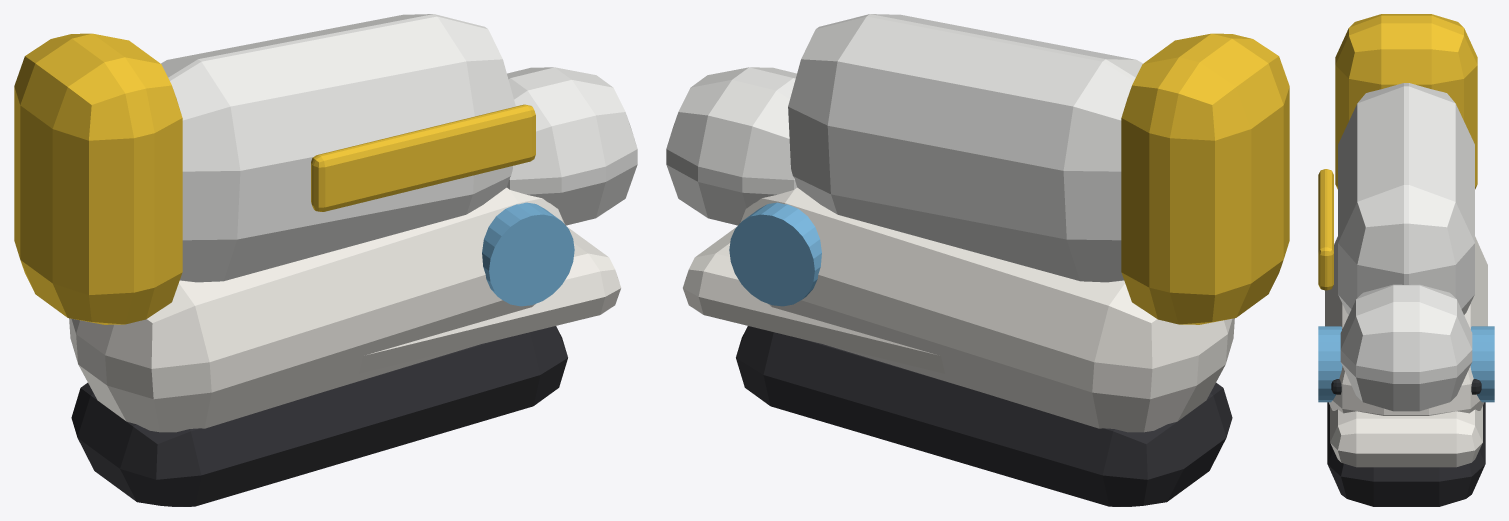
The model's file is nike-alphafly-3-study.glb.
3 views of the same model, side by side, from view 1: azimuth 30°, elevation 25°; view 2: azimuth 150°, elevation 25°; view 3: azimuth 270°, elevation 25° (orthographic). The views are drawn at different scales.
Visible parts, largest first — view 1: nike-alphafly-3-study_UPPER, nike-alphafly-3-study_MIDSOLE, nike-alphafly-3-study_HEEL, nike-alphafly-3-study_OUTSOLE, nike-alphafly-3-study_TOE, nike-alphafly-3-study_MUSEUM_ID_PANEL, nike-alphafly-3-study_CONTINUOUS_BOTTOM, nike-alphafly-3-study; view 2: nike-alphafly-3-study_UPPER, nike-alphafly-3-study_MIDSOLE, nike-alphafly-3-study_HEEL, nike-alphafly-3-study_OUTSOLE, nike-alphafly-3-study_TOE, nike-alphafly-3-study_CONTINUOUS_BOTTOM, nike-alphafly-3-study; view 3: nike-alphafly-3-study_UPPER, nike-alphafly-3-study_TOE, nike-alphafly-3-study_HEEL, nike-alphafly-3-study_CONTINUOUS_BOTTOM, nike-alphafly-3-study_OUTSOLE, nike-alphafly-3-study_MIDSOLE, nike-alphafly-3-study, nike-alphafly-3-study_MUSEUM_ID_PANEL, nike-alphafly-3-study_CARBON_PLATE.
Part boxes in pixels (<box>): nike-alphafly-3-study_UPPER: <box>161,14,515,282</box>; nike-alphafly-3-study_MIDSOLE: <box>69,187,565,432</box>; nike-alphafly-3-study_HEEL: <box>14,33,182,324</box>; nike-alphafly-3-study_OUTSOLE: <box>71,326,567,506</box>; nike-alphafly-3-study_TOE: <box>506,67,637,225</box>; nike-alphafly-3-study_MUSEUM_ID_PANEL: <box>311,104,535,211</box>; nike-alphafly-3-study_CONTINUOUS_BOTTOM: <box>359,227,620,373</box>; nike-alphafly-3-study: <box>482,202,574,306</box>; nike-alphafly-3-study_UPPER: <box>788,14,1142,282</box>; nike-alphafly-3-study_MIDSOLE: <box>738,187,1234,432</box>; nike-alphafly-3-study_HEEL: <box>1121,33,1289,324</box>; nike-alphafly-3-study_OUTSOLE: <box>736,326,1232,506</box>; nike-alphafly-3-study_TOE: <box>666,67,797,225</box>; nike-alphafly-3-study_CONTINUOUS_BOTTOM: <box>683,227,944,373</box>; nike-alphafly-3-study: <box>729,202,821,306</box>; nike-alphafly-3-study_UPPER: <box>1338,83,1474,314</box>; nike-alphafly-3-study_TOE: <box>1340,284,1472,411</box>; nike-alphafly-3-study_HEEL: <box>1335,14,1477,189</box>; nike-alphafly-3-study_CONTINUOUS_BOTTOM: <box>1330,406,1482,467</box>; nike-alphafly-3-study_OUTSOLE: <box>1327,402,1485,506</box>; nike-alphafly-3-study_MIDSOLE: <box>1325,236,1487,415</box>; nike-alphafly-3-study: <box>1318,326,1494,402</box>; nike-alphafly-3-study_MUSEUM_ID_PANEL: <box>1318,169,1333,290</box>; nike-alphafly-3-study_CARBON_PLATE: <box>1331,379,1481,394</box>.
Size of the model in its own units: 0.397 by 0.2957 by 0.134.
